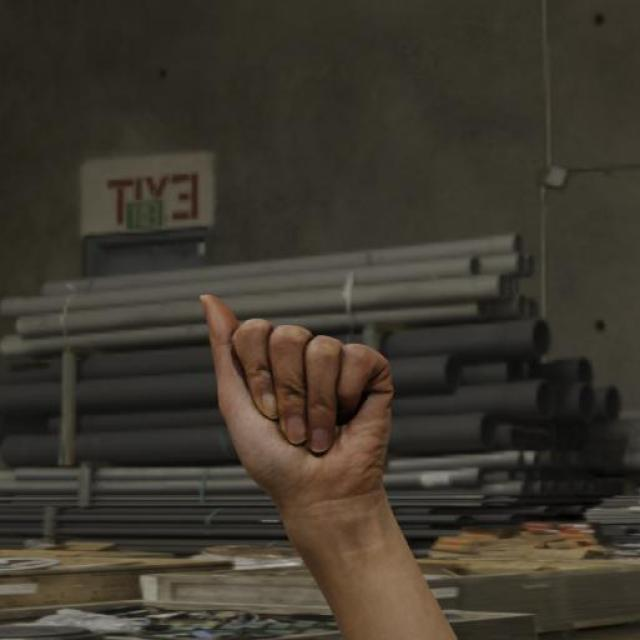A: (196, 289, 398, 511)
